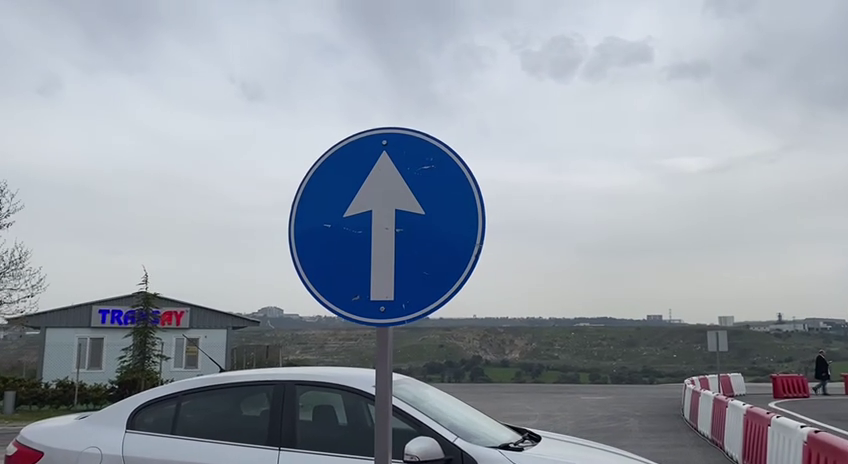forward: (279, 124, 487, 329)
